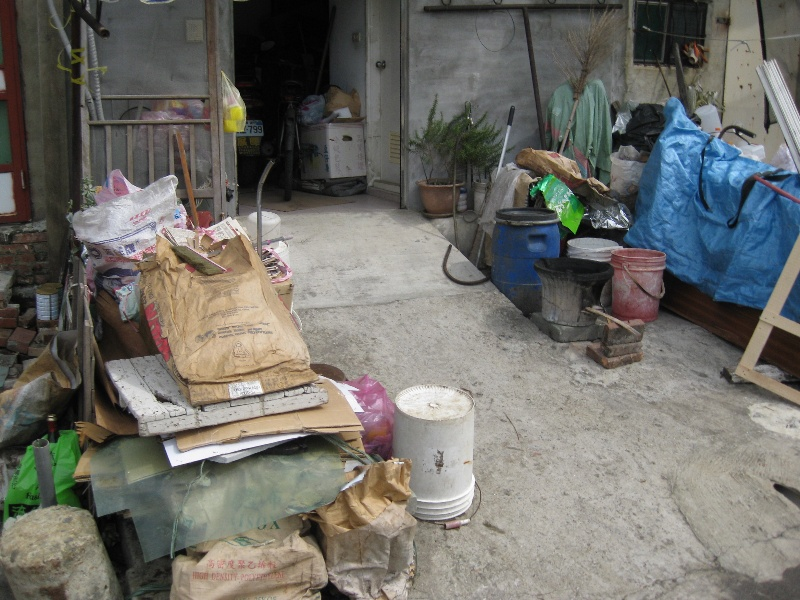bottle: (34, 283, 60, 323)
box: (299, 121, 367, 179)
bucket: (392, 383, 475, 522), (493, 207, 561, 313), (533, 253, 615, 326), (611, 247, 668, 322), (695, 105, 722, 131)
plastic_bag: (625, 125, 800, 314), (147, 226, 317, 397), (67, 172, 187, 313), (320, 459, 418, 600), (170, 526, 325, 600), (1, 334, 81, 441), (514, 147, 580, 181), (608, 144, 643, 195), (299, 93, 326, 122)
